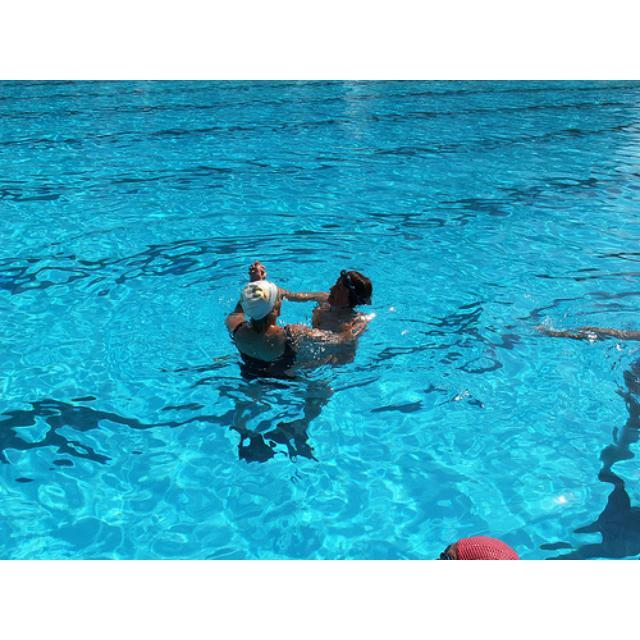human: (225, 273, 309, 371), (304, 273, 378, 369)
